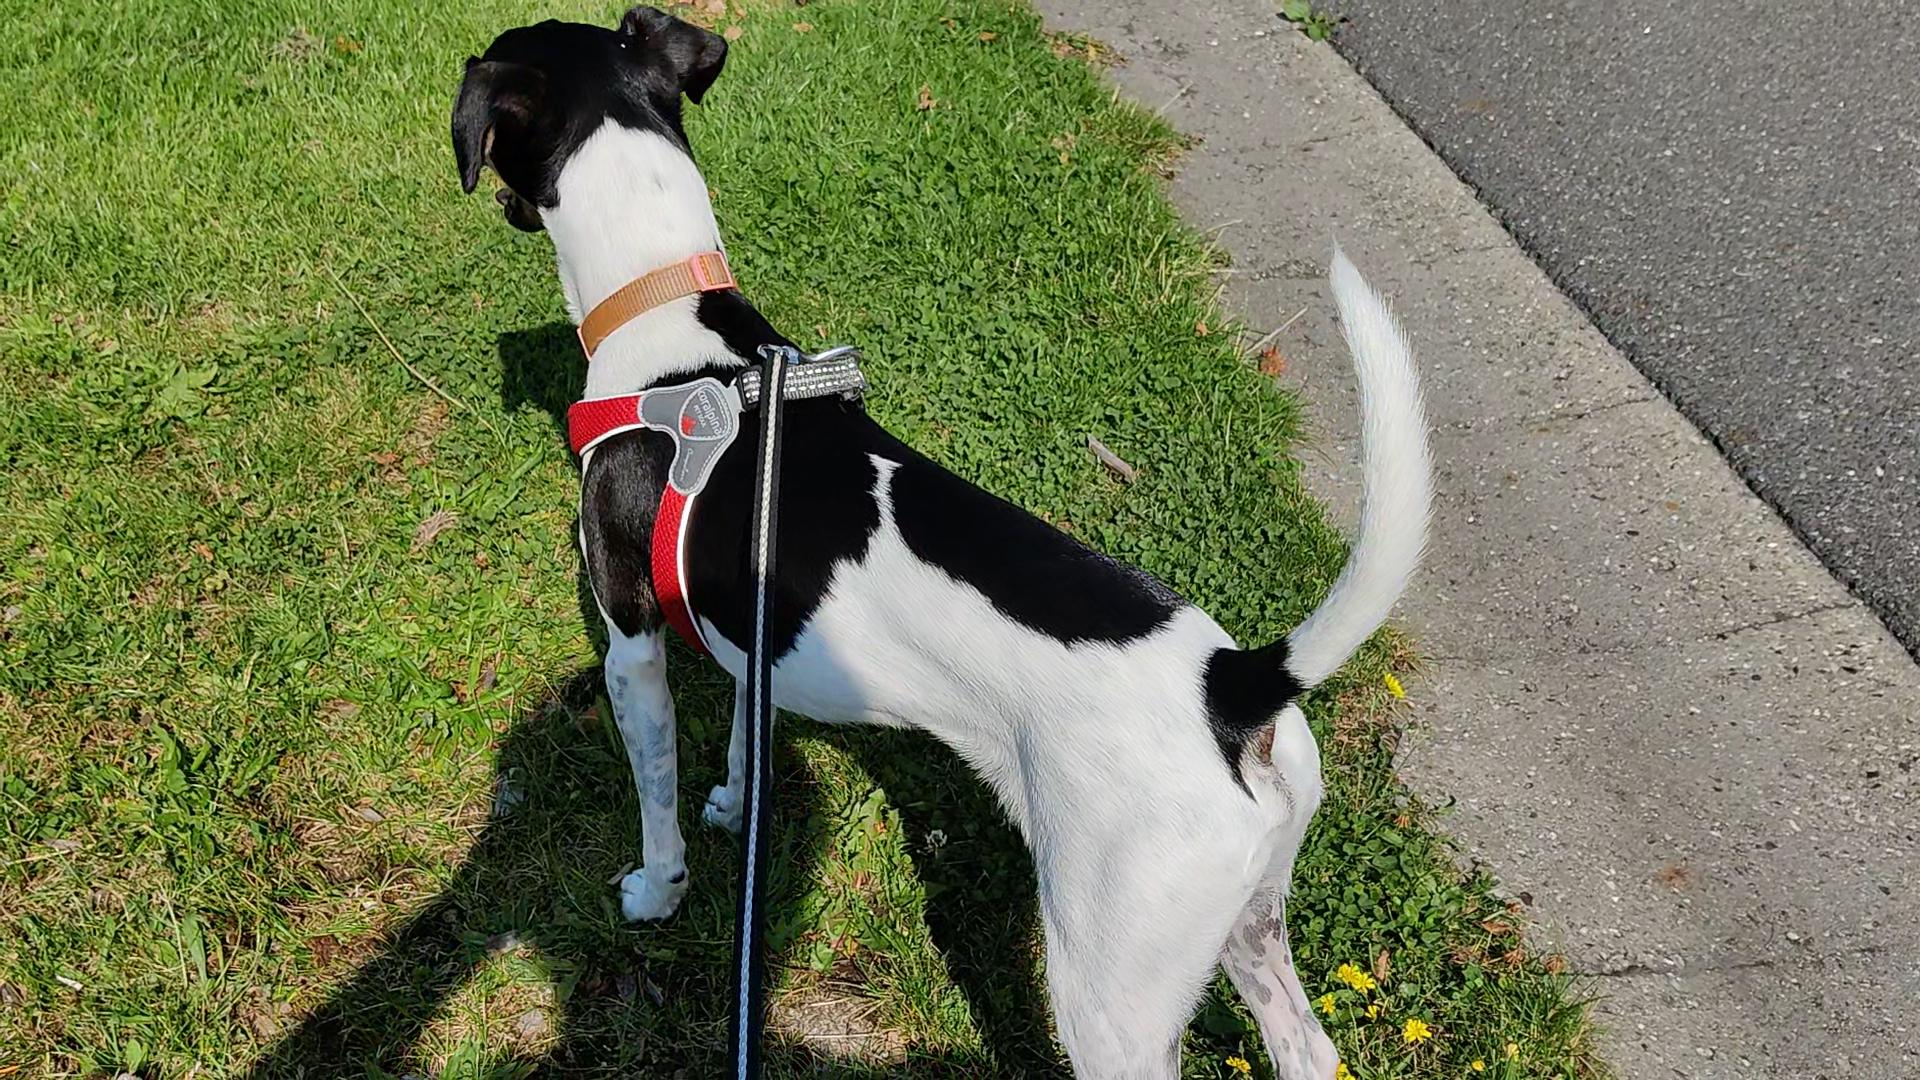Dog: (444, 3, 1449, 1079)
